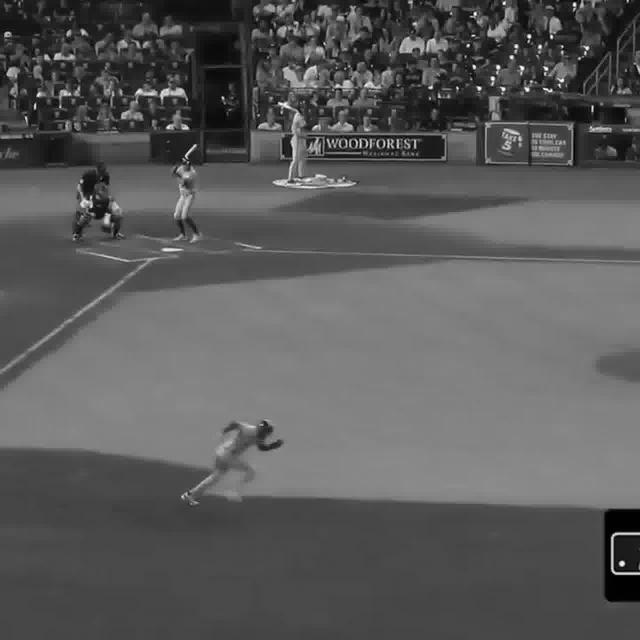base: (159, 246, 185, 254)
bat: (171, 139, 203, 178)
shoe: (182, 494, 202, 508), (224, 490, 242, 503), (192, 230, 205, 246), (175, 232, 192, 241), (107, 234, 125, 242), (70, 234, 86, 240)
